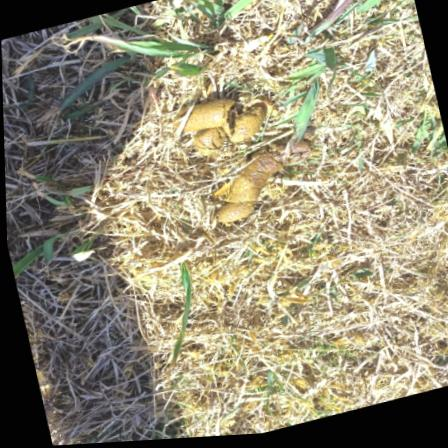dog-poop: (183, 134, 332, 234), (154, 80, 275, 167)
